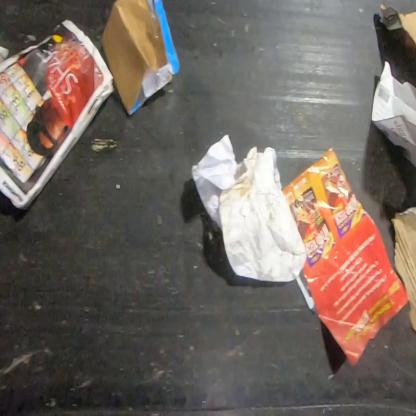cardboard: (99, 0, 182, 118), (389, 204, 415, 336)
